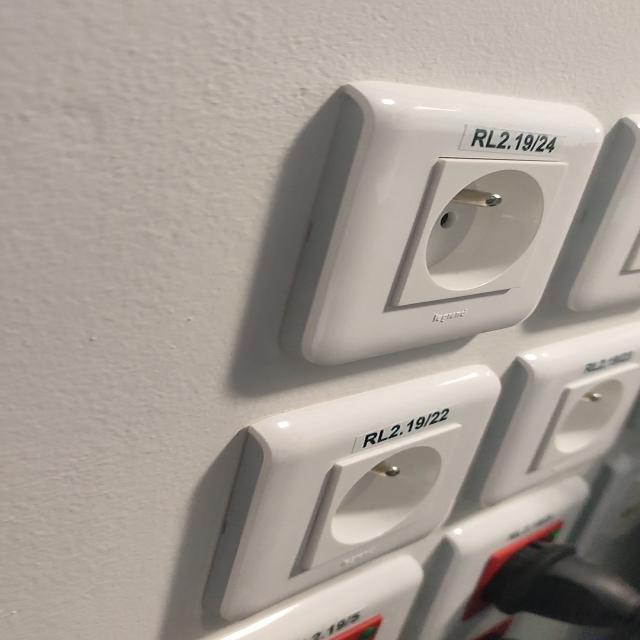house plug: (392, 156, 569, 307), (305, 425, 457, 571), (527, 363, 640, 472)
